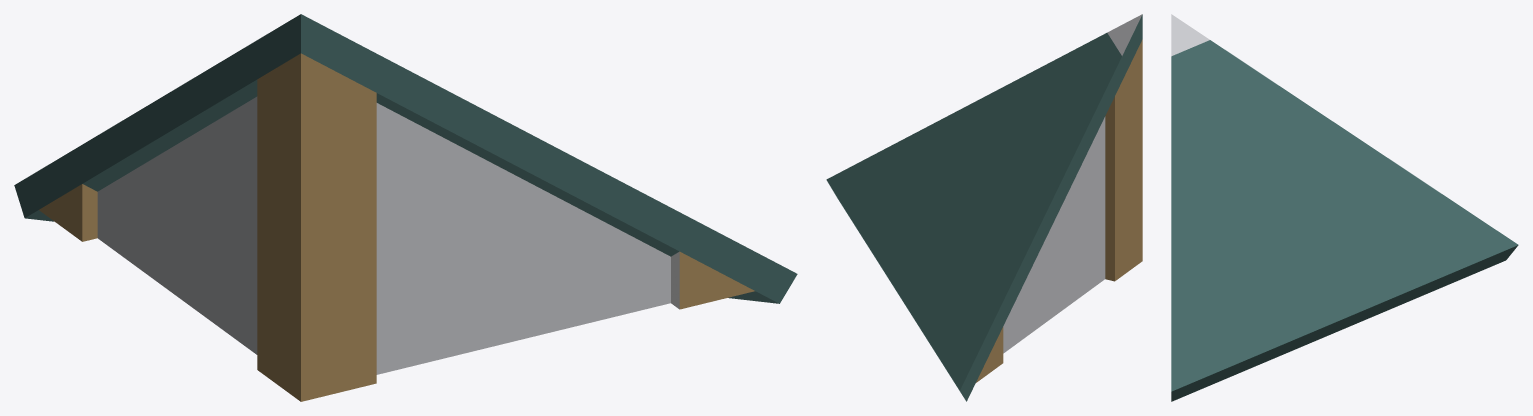
File: Roof_Corner_Green_01.obj
The picture shows the model from 3 angles, left to right: view 1: azimuth 30°, elevation 25°; view 2: azimuth 150°, elevation 25°; view 3: azimuth 270°, elevation 25°; orthographic projection. The views are drawn at different scales.
Parts seen in each view (by area): view 1: Mesh1 Roof_Corner_Green Model; view 2: Mesh1 Roof_Corner_Green Model; view 3: Mesh1 Roof_Corner_Green Model.
Boxes of the visible parts, x1,y1,x2,y2 form: Mesh1 Roof_Corner_Green Model: (14,14,797,401); Mesh1 Roof_Corner_Green Model: (826,14,1142,401); Mesh1 Roof_Corner_Green Model: (1171,14,1518,401).
Size of the model in its own units: 3.28 by 2.57 by 3.28.
